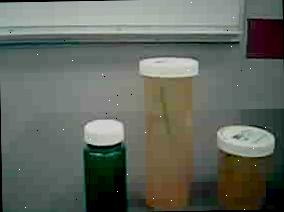Bottle A: (138, 50, 204, 212)
Bottle B: (212, 122, 277, 210)
Bottle C: (78, 117, 134, 212)
